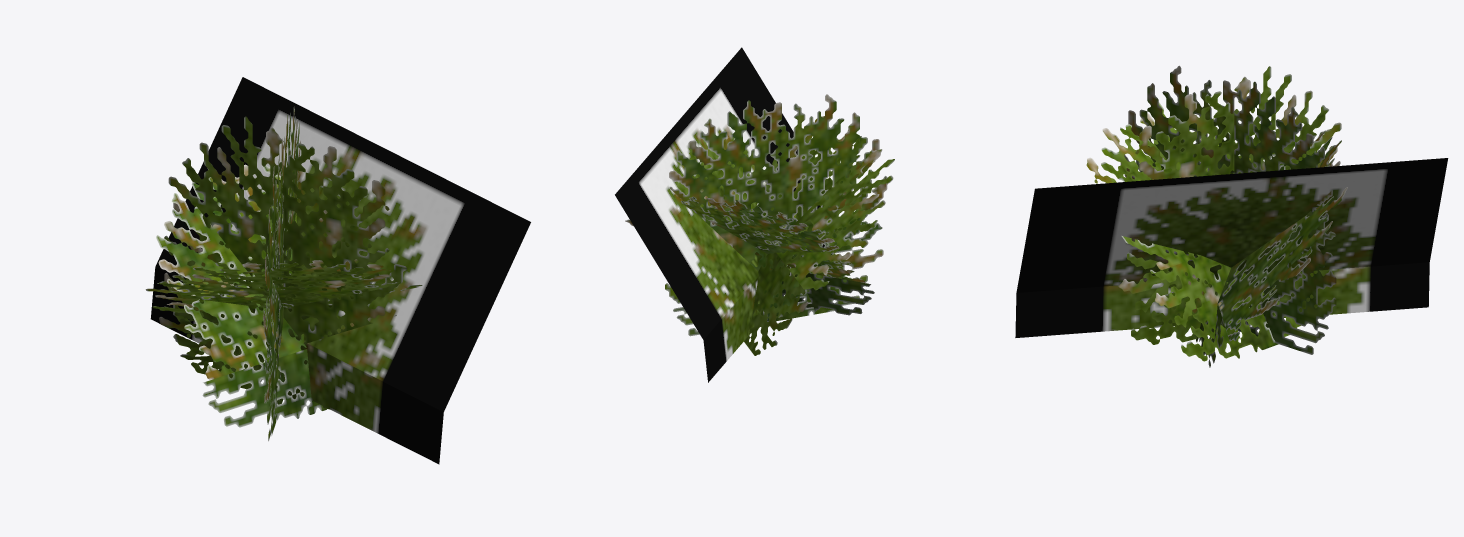
Rendered from myrtle_bush_4.obj.
3 views of the same model, side by side, from view 1: azimuth 30°, elevation 25°; view 2: azimuth 150°, elevation 25°; view 3: azimuth 270°, elevation 25° (orthographic). The views are drawn at different scales.
Visible parts, largest first — view 1: plane; view 2: plane; view 3: plane.
Part boxes in pixels (x1=…): plane: x1=145, y1=77, x2=530, y2=464; plane: x1=615, y1=47, x2=894, y2=382; plane: x1=1015, y1=65, x2=1448, y2=367.
Size of the model in its own units: 3.47 by 2.83 by 2.94.
